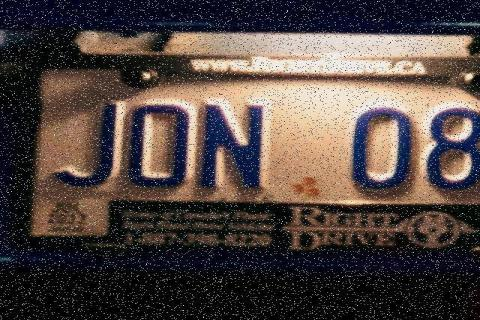LicensePlate: (18, 51, 480, 252)
